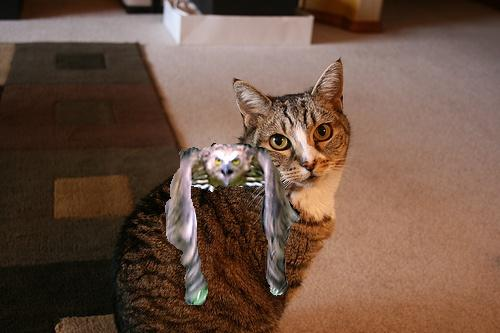tampered: (166, 144, 300, 305)
